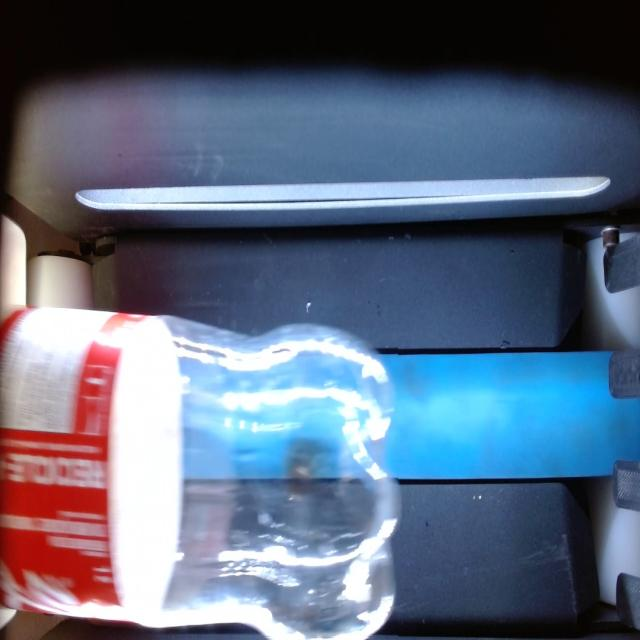bottle: (0, 309, 398, 637)
